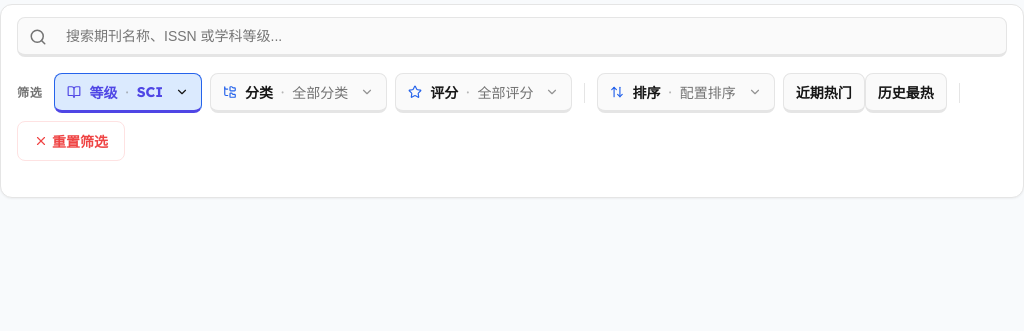
Test: SearchAndFilter › Dropdown interactions › should show check icon for selected option
The width and height of the screenshot is (1024, 331).
What coordinates should you click on to do the following:
click the text "SCI"
I would click on:
 (150, 92)
Its box is x1=137 y1=83 x2=163 y2=101.
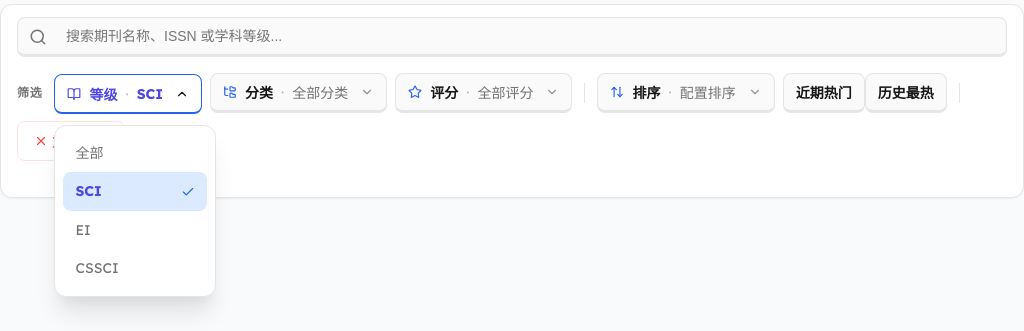
Expected: the icon with class "check-icon" is shown, x1=182 y1=185 x2=196 y2=199
